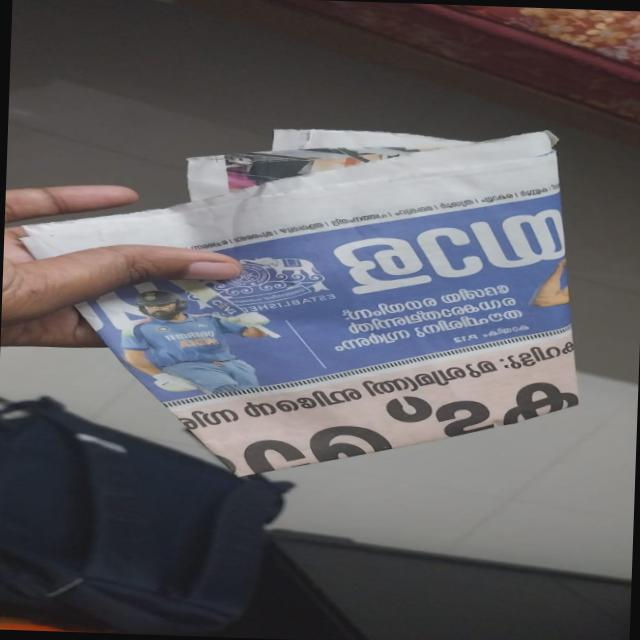Paper - Recyclable: (1, 111, 592, 491)
